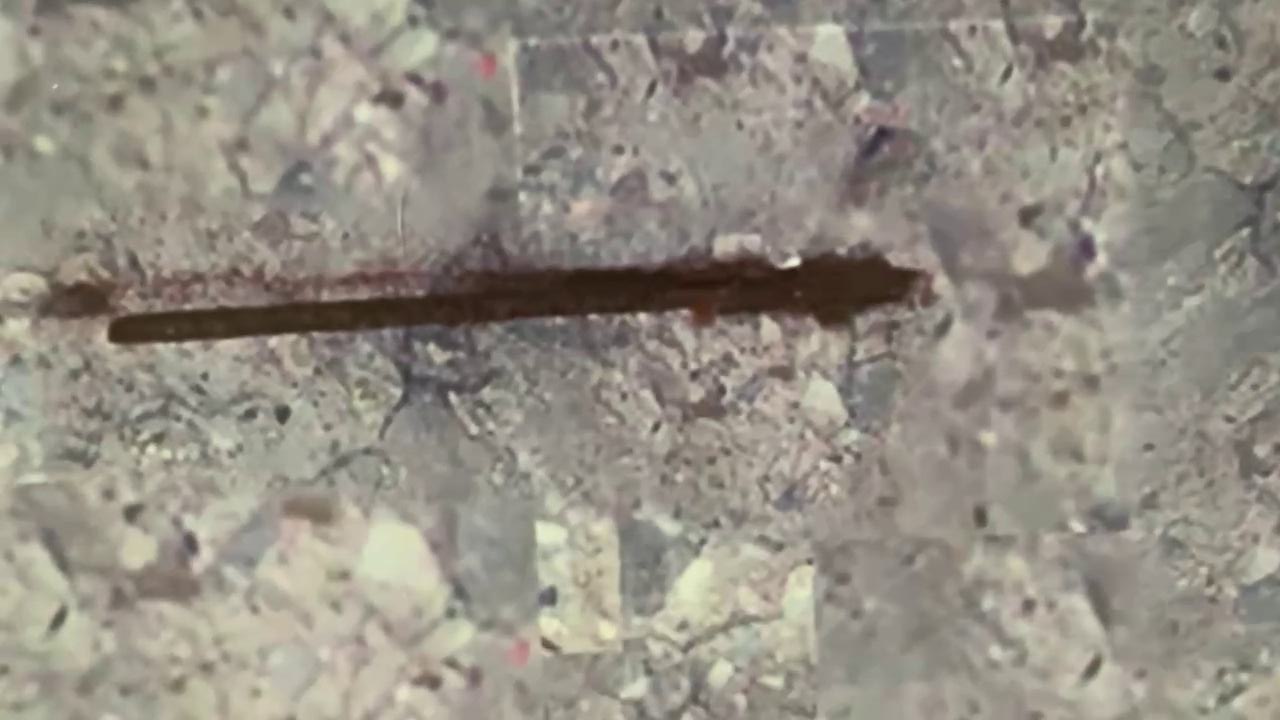Exposed reinforcement: (108, 254, 918, 345)
